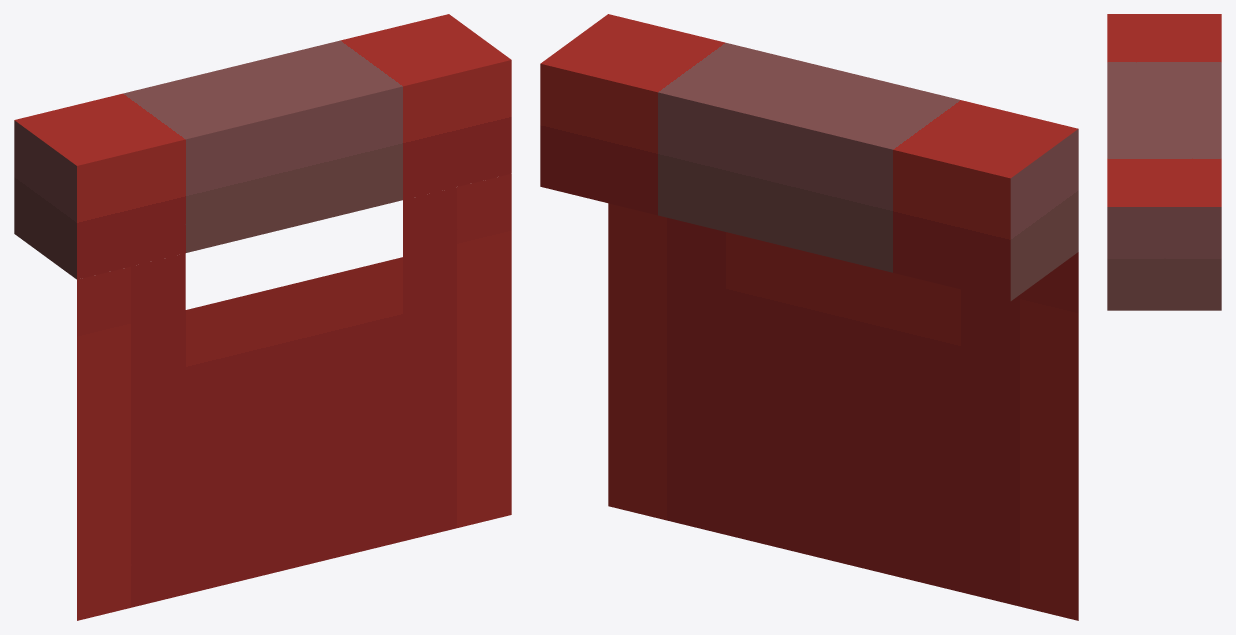
File: _Red Banner Hanging.glb
3 renders of one model, left to right at view 1: azimuth 30°, elevation 25°; view 2: azimuth 150°, elevation 25°; view 3: azimuth 270°, elevation 25°, orthographic. The views are drawn at different scales.
Visible parts, largest first — view 1: cube; view 2: cube; view 3: cube.
Boxes of the visible parts, <box> form: cube: <box>14,14,511,620</box>; cube: <box>540,14,1078,620</box>; cube: <box>1107,14,1221,310</box>.
Size of the model in its own units: 1 by 1 by 0.2501.
Materials: 1 (1 with a texture image).
